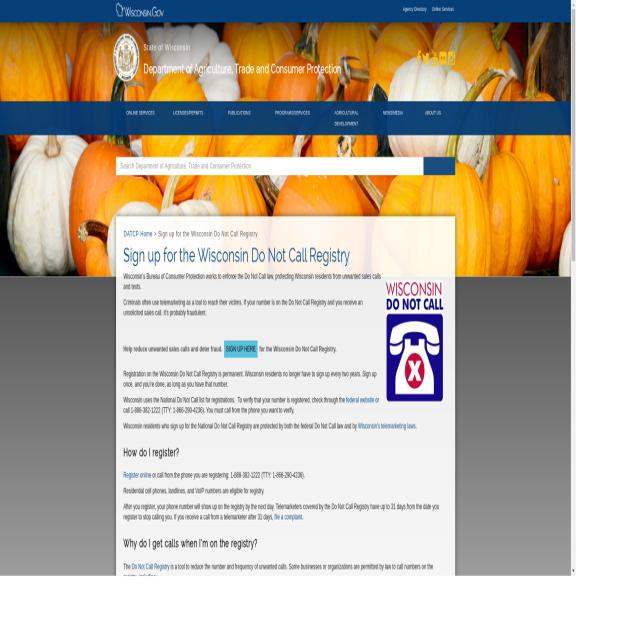button: (386, 280, 444, 400), (322, 102, 370, 135), (263, 102, 322, 124), (113, 34, 139, 82), (161, 102, 215, 124), (215, 102, 263, 124), (371, 102, 415, 124), (120, 102, 161, 124), (415, 102, 451, 124), (116, 2, 164, 16), (224, 341, 258, 358), (422, 49, 430, 67), (431, 49, 438, 67), (439, 49, 446, 67), (448, 49, 455, 67), (416, 49, 422, 67)
field: (116, 157, 423, 175)
